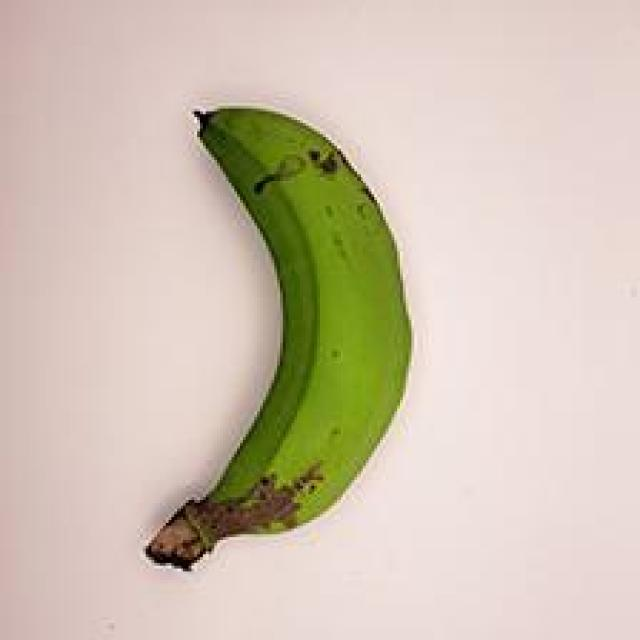Raw: (91, 86, 449, 594)
